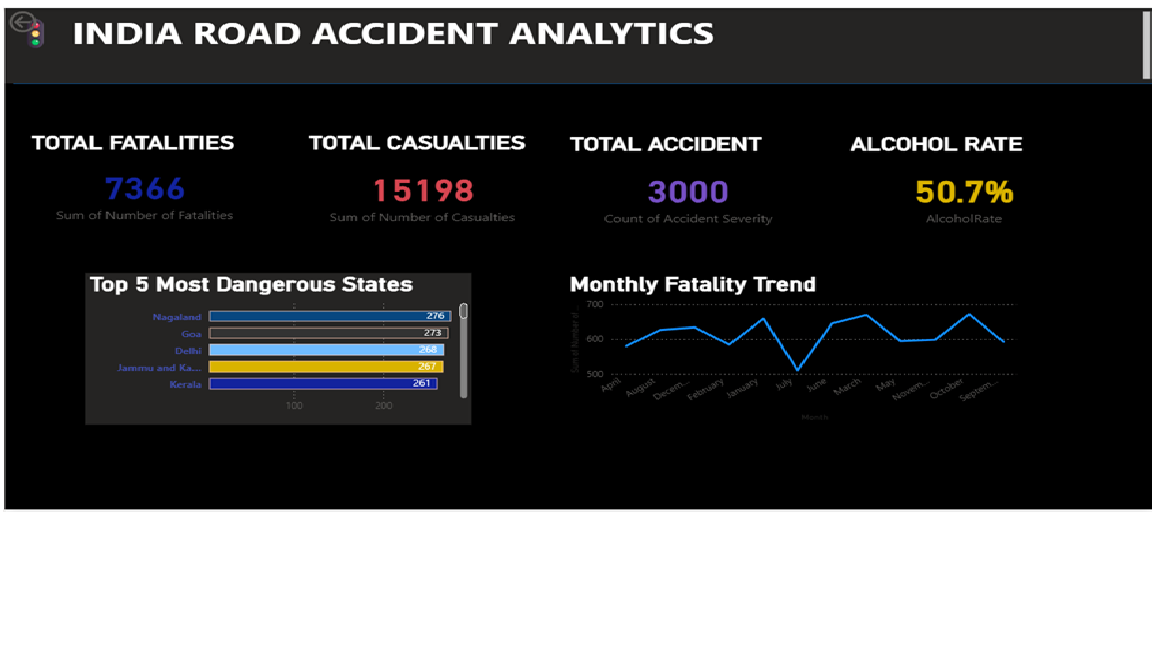

What the dashboard file says about the page in this screenshot:
{"tool":"powerbi","page":{"name":"Page 1","canvas":[1280,720],"ordinal":0},"visuals":[{"type":"shape","box":[9.4,0,1269.9,215.4],"z":0},{"type":"textbox","box":[0,0,1279.4,107.7],"z":1000},{"type":"card","title":"TOTAL FATALITIES","fields":{"Values":["Sum(CSV.Number of Fatalities)"]},"box":[24.2,177.2,262,143.8],"z":2000},{"type":"card","title":"TOTAL CASUALTIES","fields":{"Values":["Sum(CSV.Number of Casualties)"]},"box":[333.1,177.2,262,149.9],"z":3000},{"type":"card","title":"TOTAL ACCIDENT","fields":{"Values":["CountNonNull(CSV.Accident Severity)"]},"box":[623.9,178.7,272.6,149.9],"z":4000},{"type":"actionButton","box":[0,0,100,40],"z":5000},{"type":"card","title":"ALCOHOL RATE","fields":{"Values":["CSV.AlcoholRate"]},"box":[935.8,178.7,262,149.9],"z":6000},{"type":"clusteredBarChart","title":"Top 5 Most Dangerous States","fields":{"Category":["CSV.State Name"],"Y":["Sum(CSV.Number of Fatalities)"]},"box":[89.3,380.1,430,218],"z":7000},{"type":"lineChart","title":"Monthly Fatality Trend","fields":{"Category":["CSV.Month"],"Y":["Sum(CSV.Number of Fatalities)"]},"box":[623.9,380.1,507.3,218],"z":8002}]}

Visuals, with their boxes in screenshot pixels (x1, y1, x2, y2), scaled from the page's 1280x720 canvas onto the 1152x648 screenshot:
shape: 8, 0, 1151, 194
textbox: 0, 0, 1151, 97
"TOTAL FATALITIES" card: 22, 159, 258, 289
"TOTAL CASUALTIES" card: 300, 159, 536, 294
"TOTAL ACCIDENT" card: 562, 161, 807, 296
actionButton: 0, 0, 90, 36
"ALCOHOL RATE" card: 842, 161, 1078, 296
"Top 5 Most Dangerous States" clusteredBarChart: 80, 342, 467, 538
"Monthly Fatality Trend" lineChart: 562, 342, 1018, 538
